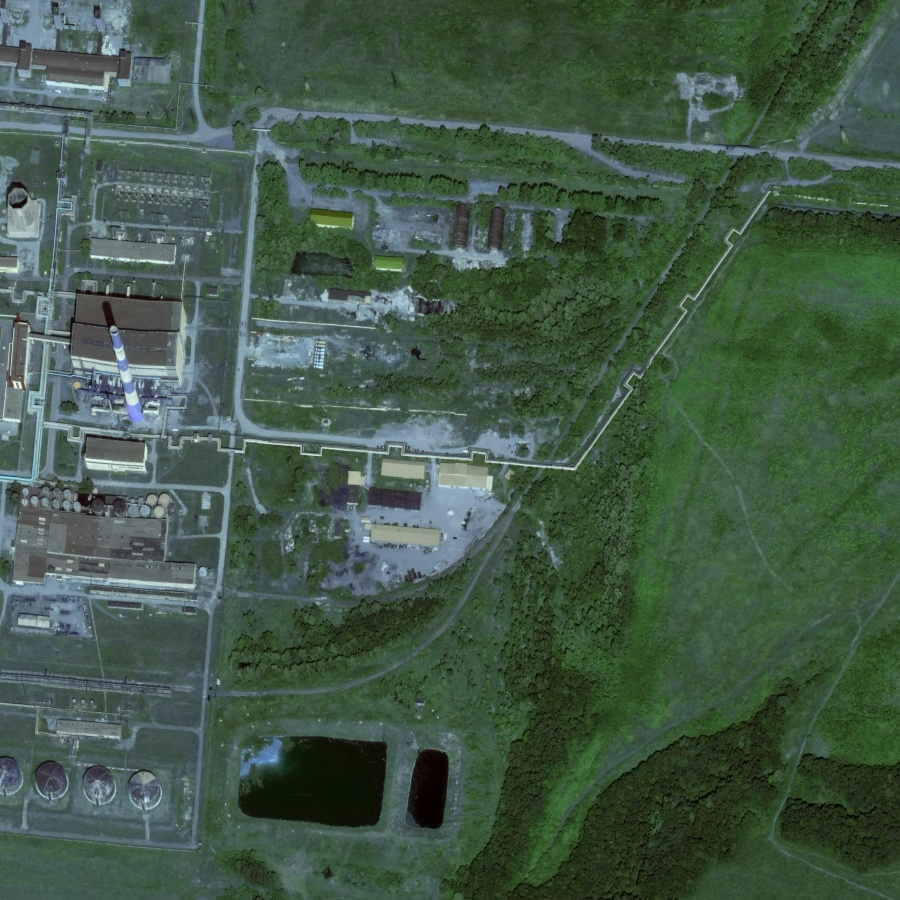PowerPlant: (228, 722, 462, 849)
